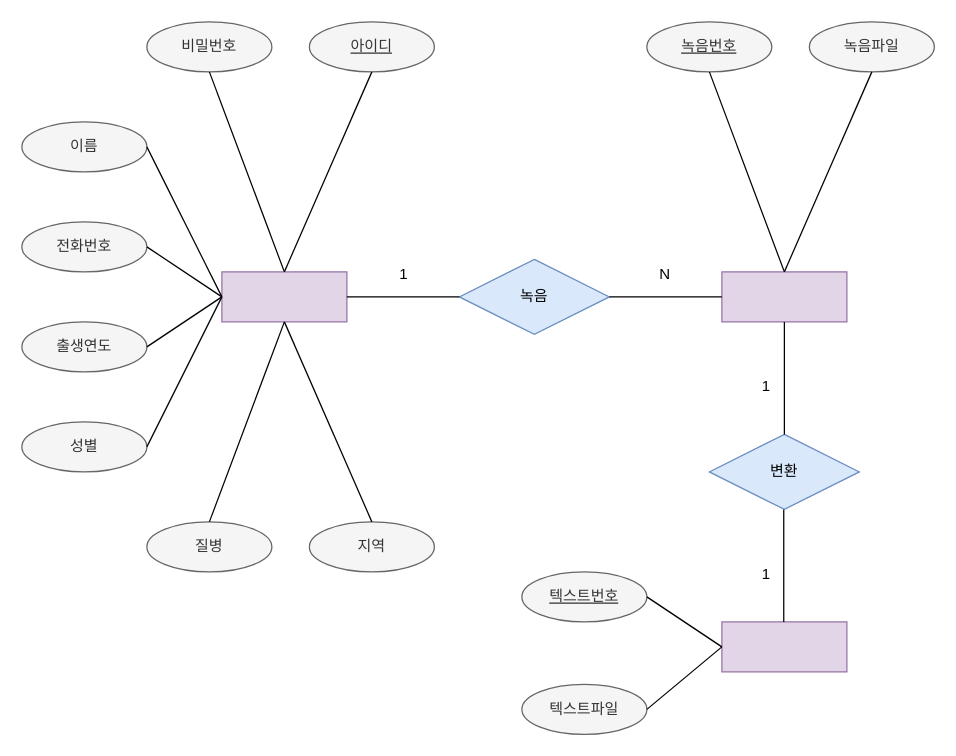
The diagram is 956 pixels wide and 756 high, and some of its shapes have lost their labels. Each missing label, with the box of its shape:
STT/TTS: (721, 621, 847, 672)
사용자: (221, 271, 347, 322)
음성녹음: (721, 271, 847, 322)
